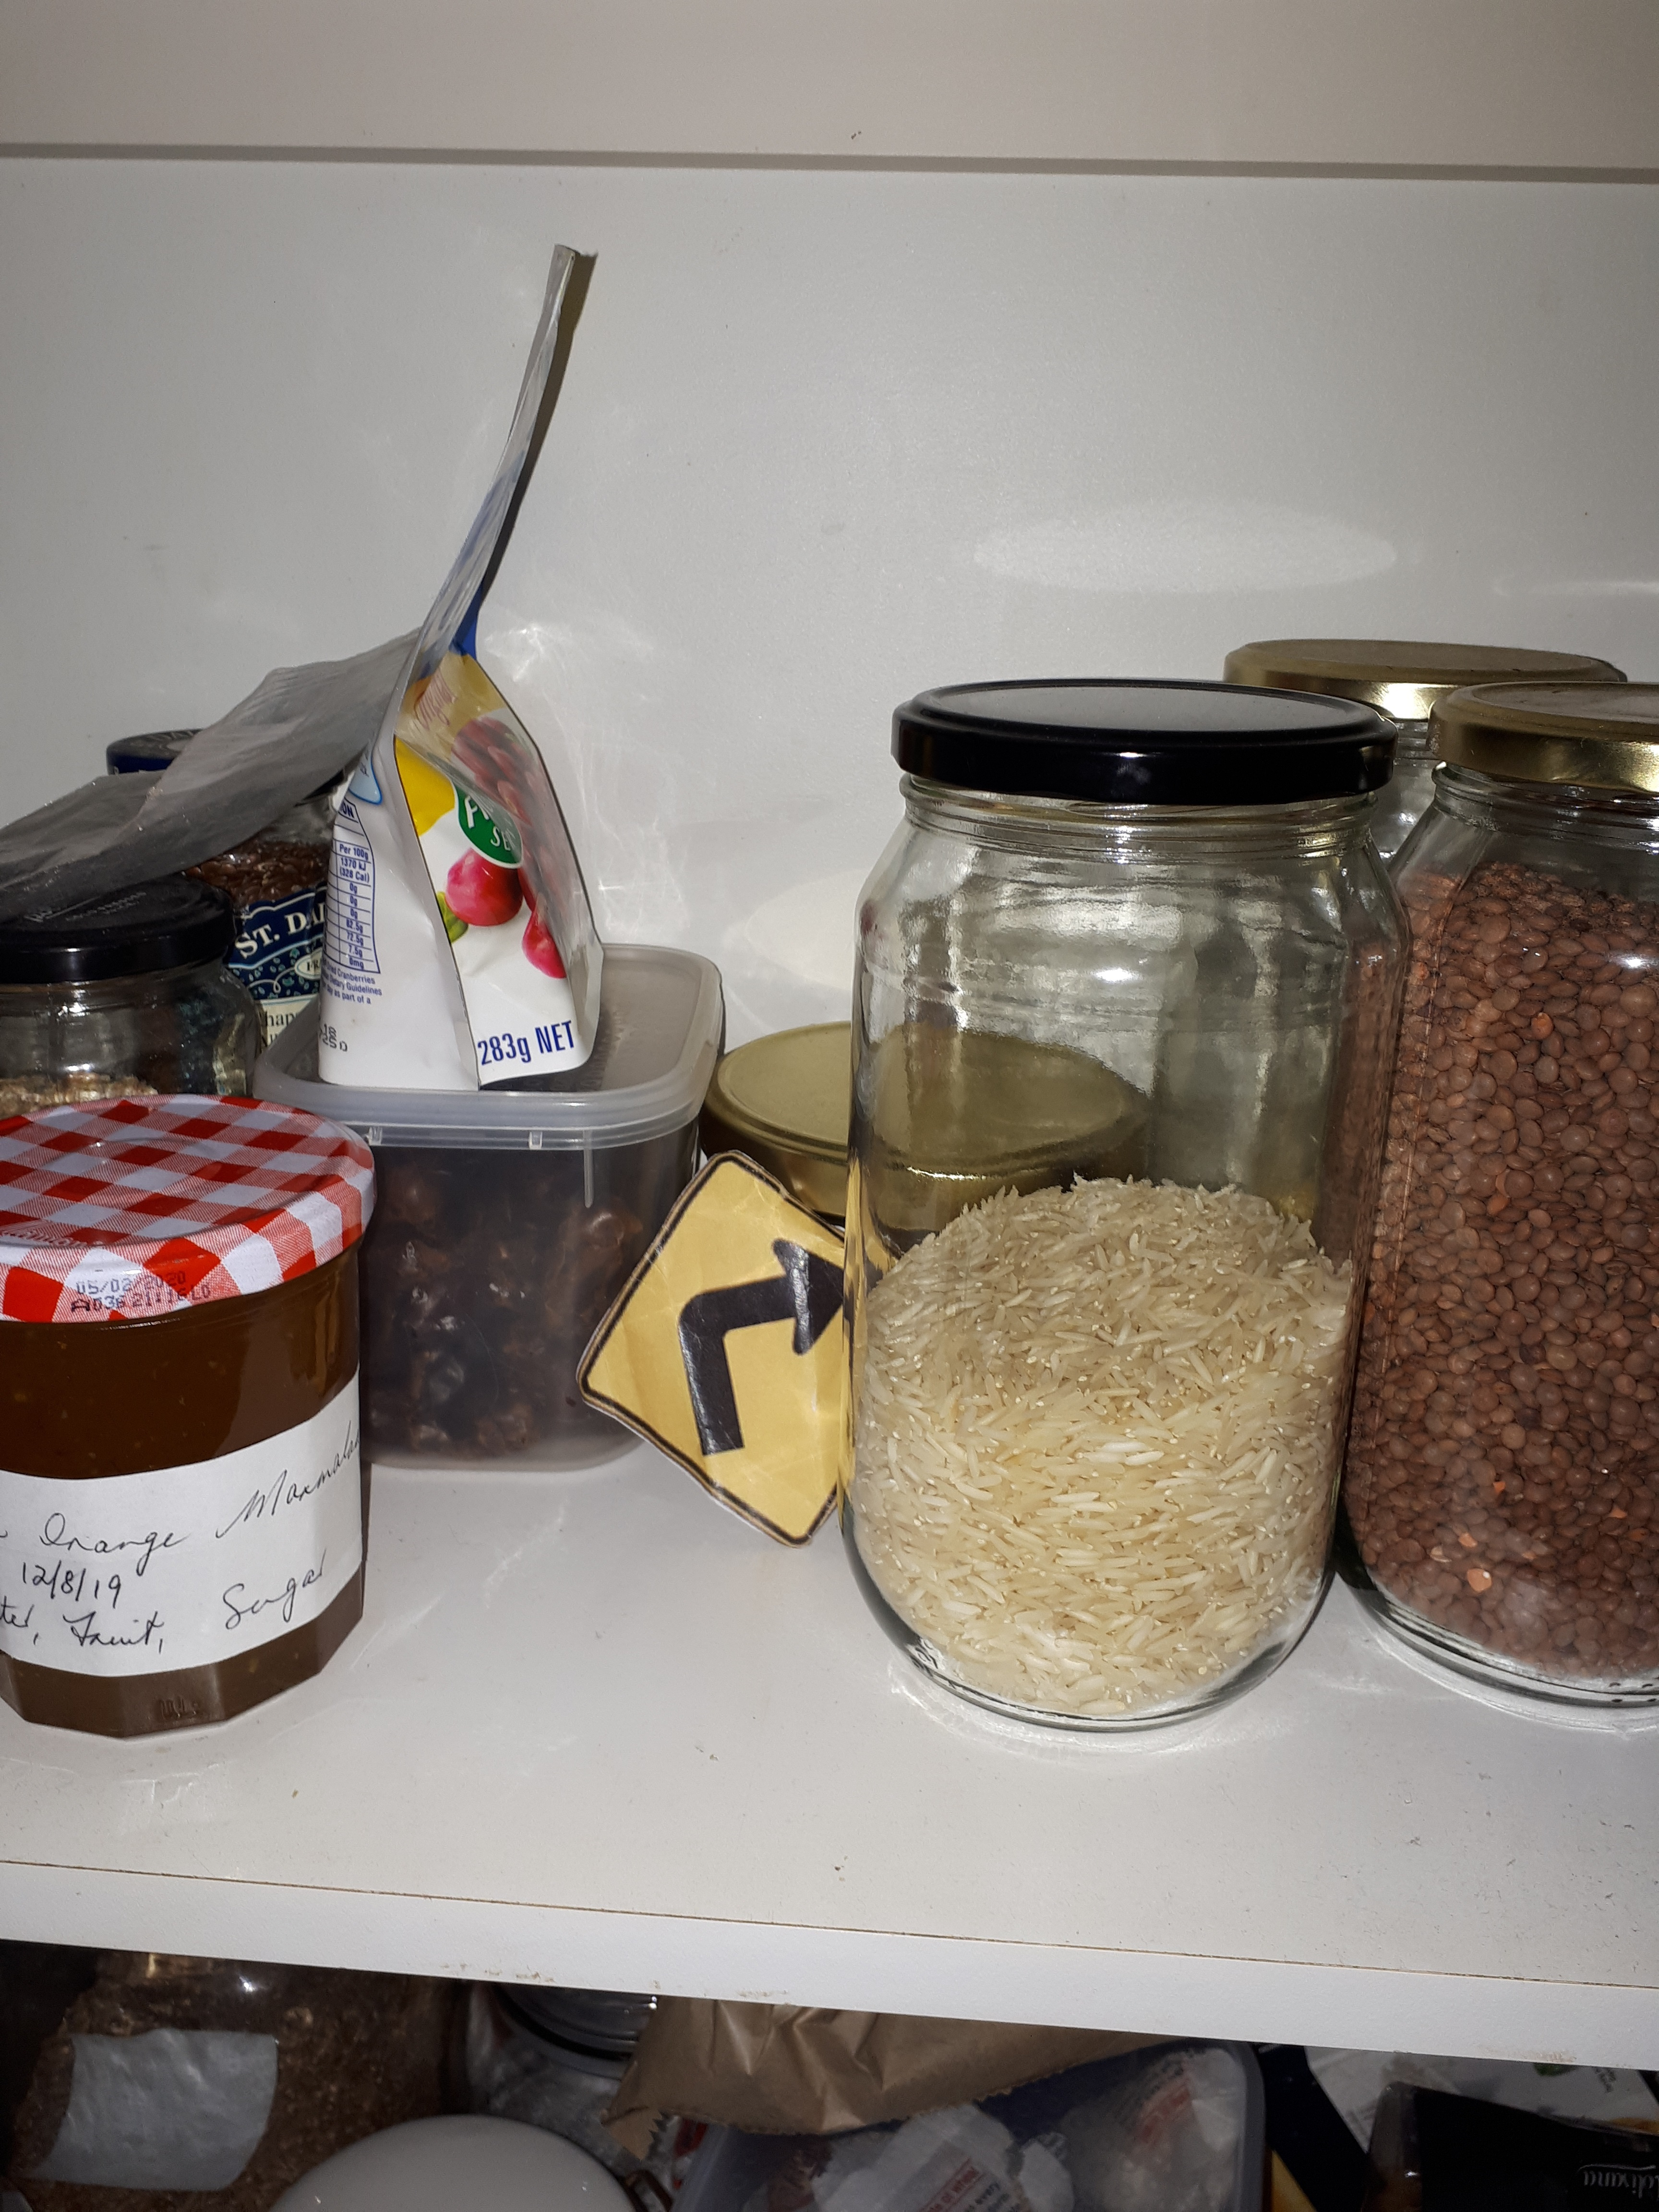right: (532, 1183, 972, 1597), (638, 1231, 957, 1526)
